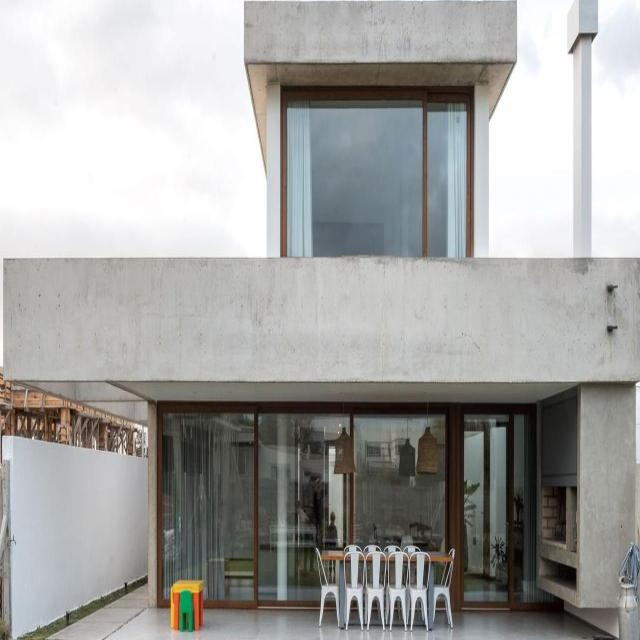door: (450, 406, 535, 613)
wall: (3, 0, 640, 639)
windows: (158, 408, 534, 607)
